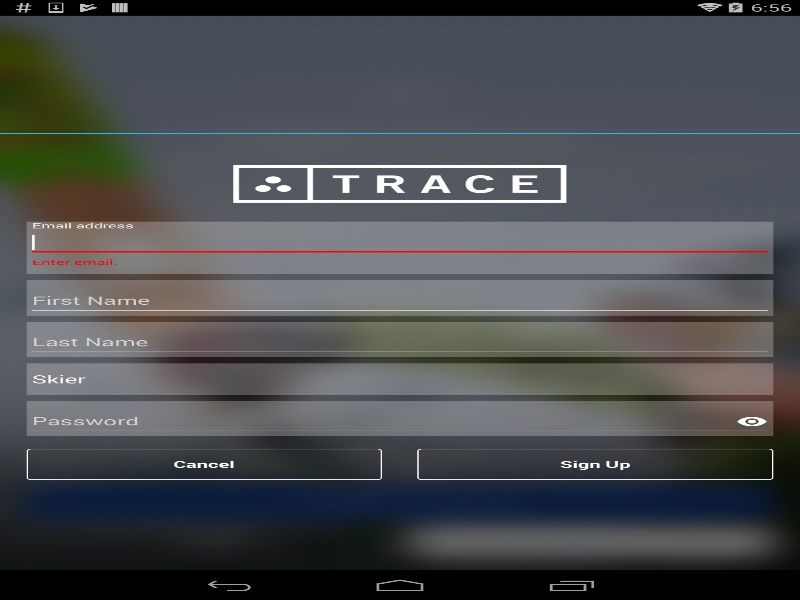Button: (26, 448, 382, 480), (417, 448, 773, 480), (730, 407, 773, 435)
Input: (26, 328, 773, 357), (26, 407, 773, 436), (26, 228, 773, 256), (26, 287, 773, 315)
